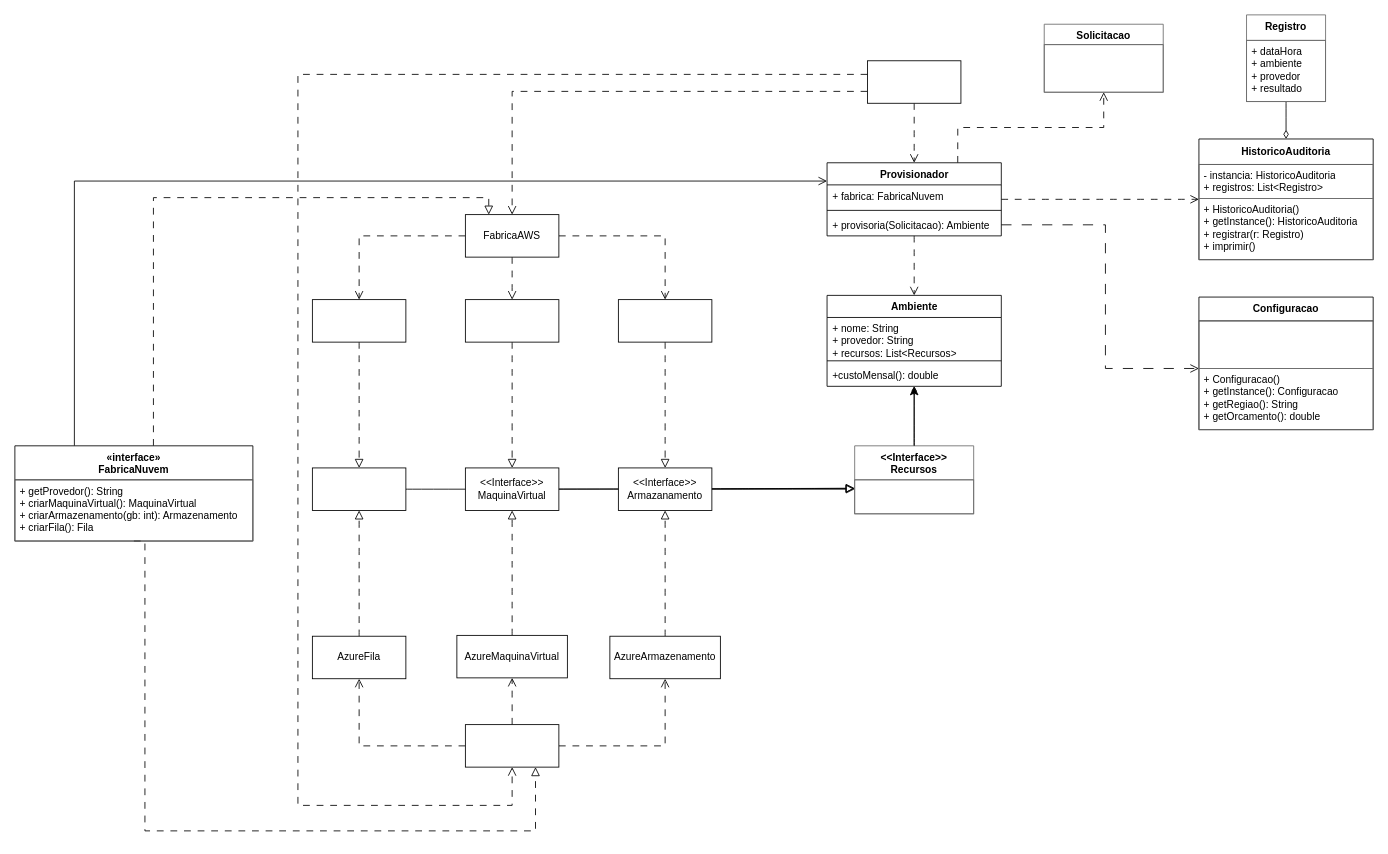
Image size: 1388x854. Some labels were removed from this diagram. The centre of each missing label's shape, as x and y in pixels:
+ getId(): String + custoMensal(): double: point (914, 496)
+ instancia: Configuracao + regiao: String + orcamento: double: point (1285, 344)
+ nome: String + qtdMaquinas: int + gb: int: point (1103, 68)
<<Interface>> FIla: point (359, 488)
AwsArmazenamento: point (665, 320)
AwsFila: point (359, 320)
AwsMaquinaVirtual: point (512, 320)
FabricaAzure: point (512, 745)
Main: point (914, 81)
